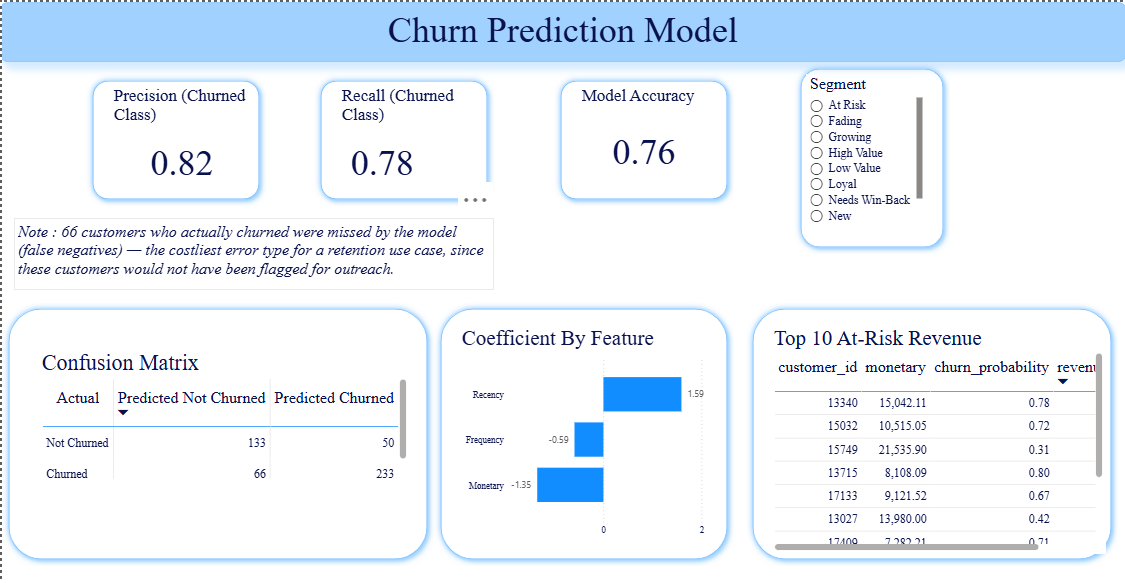

This screenshot's page, from the dashboard's own definition file:
{"tool":"powerbi","page":{"name":"Churn Prediction Model","canvas":[1498,775],"ordinal":4},"visuals":[{"type":"shape","box":[992,400,496,352],"z":0},{"type":"shape","box":[0,400,576,352],"z":1000},{"type":"shape","box":[576,400,400,352],"z":2000},{"type":"shape","box":[1056,80,208,256],"z":3000},{"type":"shape","box":[416,96,240,176],"z":4000},{"type":"shape","box":[736,96,240,176],"z":5000},{"type":"shape","box":[112,96,240,176],"z":6000},{"type":"tableEx","title":"Confusion Matrix","fields":{"Values":["Confusion matrix.Actual","Confusion matrix.Predicted Not Churned ","Confusion matrix.Predicted Churned"]},"box":[48,464,496,176],"z":7000},{"type":"tableEx","title":"Top 10 At-Risk Revenue","fields":{"Values":["Churn Model rfm project.customer_id","Churn Model rfm project.monetary","Churn Model rfm project.churn_probability","Churn Model rfm project.revenue_at_risk"]},"box":[1024,432,448,304],"z":8000},{"type":"listSlicer","title":"Segment","fields":{"Values":["public rfm_scored.segment"]},"box":[1072,96,160,208],"z":9000},{"type":"textbox","box":[-4,0,1504,80],"z":10000},{"type":"cardVisual","title":"Precision (Churned Class)","fields":{"Data":["Sum(precision.mean)"]},"box":[144,112,192,144],"z":11000},{"type":"cardVisual","title":"Recall (Churned Class)","fields":{"Data":["Sum(Recall.mean)"]},"box":[448,112,176,144],"z":12000},{"type":"cardVisual","title":"Model Accuracy","fields":{"Data":["Sum(Accuracy.Mean)"]},"box":[768,112,176,144],"z":13000},{"type":"clusteredBarChart","title":"Coefficient By Feature","fields":{"Category":["MC.Feature"],"Y":["Sum(MC.Coefficient)"]},"box":[608,432,336,288],"z":14000},{"type":"textbox","box":[16,288,640,96],"z":14001}]}

Visuals, with their boxes in screenshot pixels (x1, y1, x2, y2), scaled from the page's 1498x775 canvas onto the 1125x583 screenshot:
shape: left=745, top=301, right=1117, bottom=566
shape: left=0, top=301, right=433, bottom=566
shape: left=433, top=301, right=733, bottom=566
shape: left=793, top=60, right=949, bottom=253
shape: left=312, top=72, right=493, bottom=205
shape: left=553, top=72, right=733, bottom=205
shape: left=84, top=72, right=264, bottom=205
"Confusion Matrix" tableEx: left=36, top=349, right=409, bottom=481
"Top 10 At-Risk Revenue" tableEx: left=769, top=325, right=1105, bottom=554
"Segment" listSlicer: left=805, top=72, right=925, bottom=229
textbox: left=0, top=0, right=1124, bottom=60
"Precision (Churned Class)" cardVisual: left=108, top=84, right=252, bottom=193
"Recall (Churned Class)" cardVisual: left=336, top=84, right=469, bottom=193
"Model Accuracy" cardVisual: left=577, top=84, right=709, bottom=193
"Coefficient By Feature" clusteredBarChart: left=457, top=325, right=709, bottom=542
textbox: left=12, top=217, right=493, bottom=289
